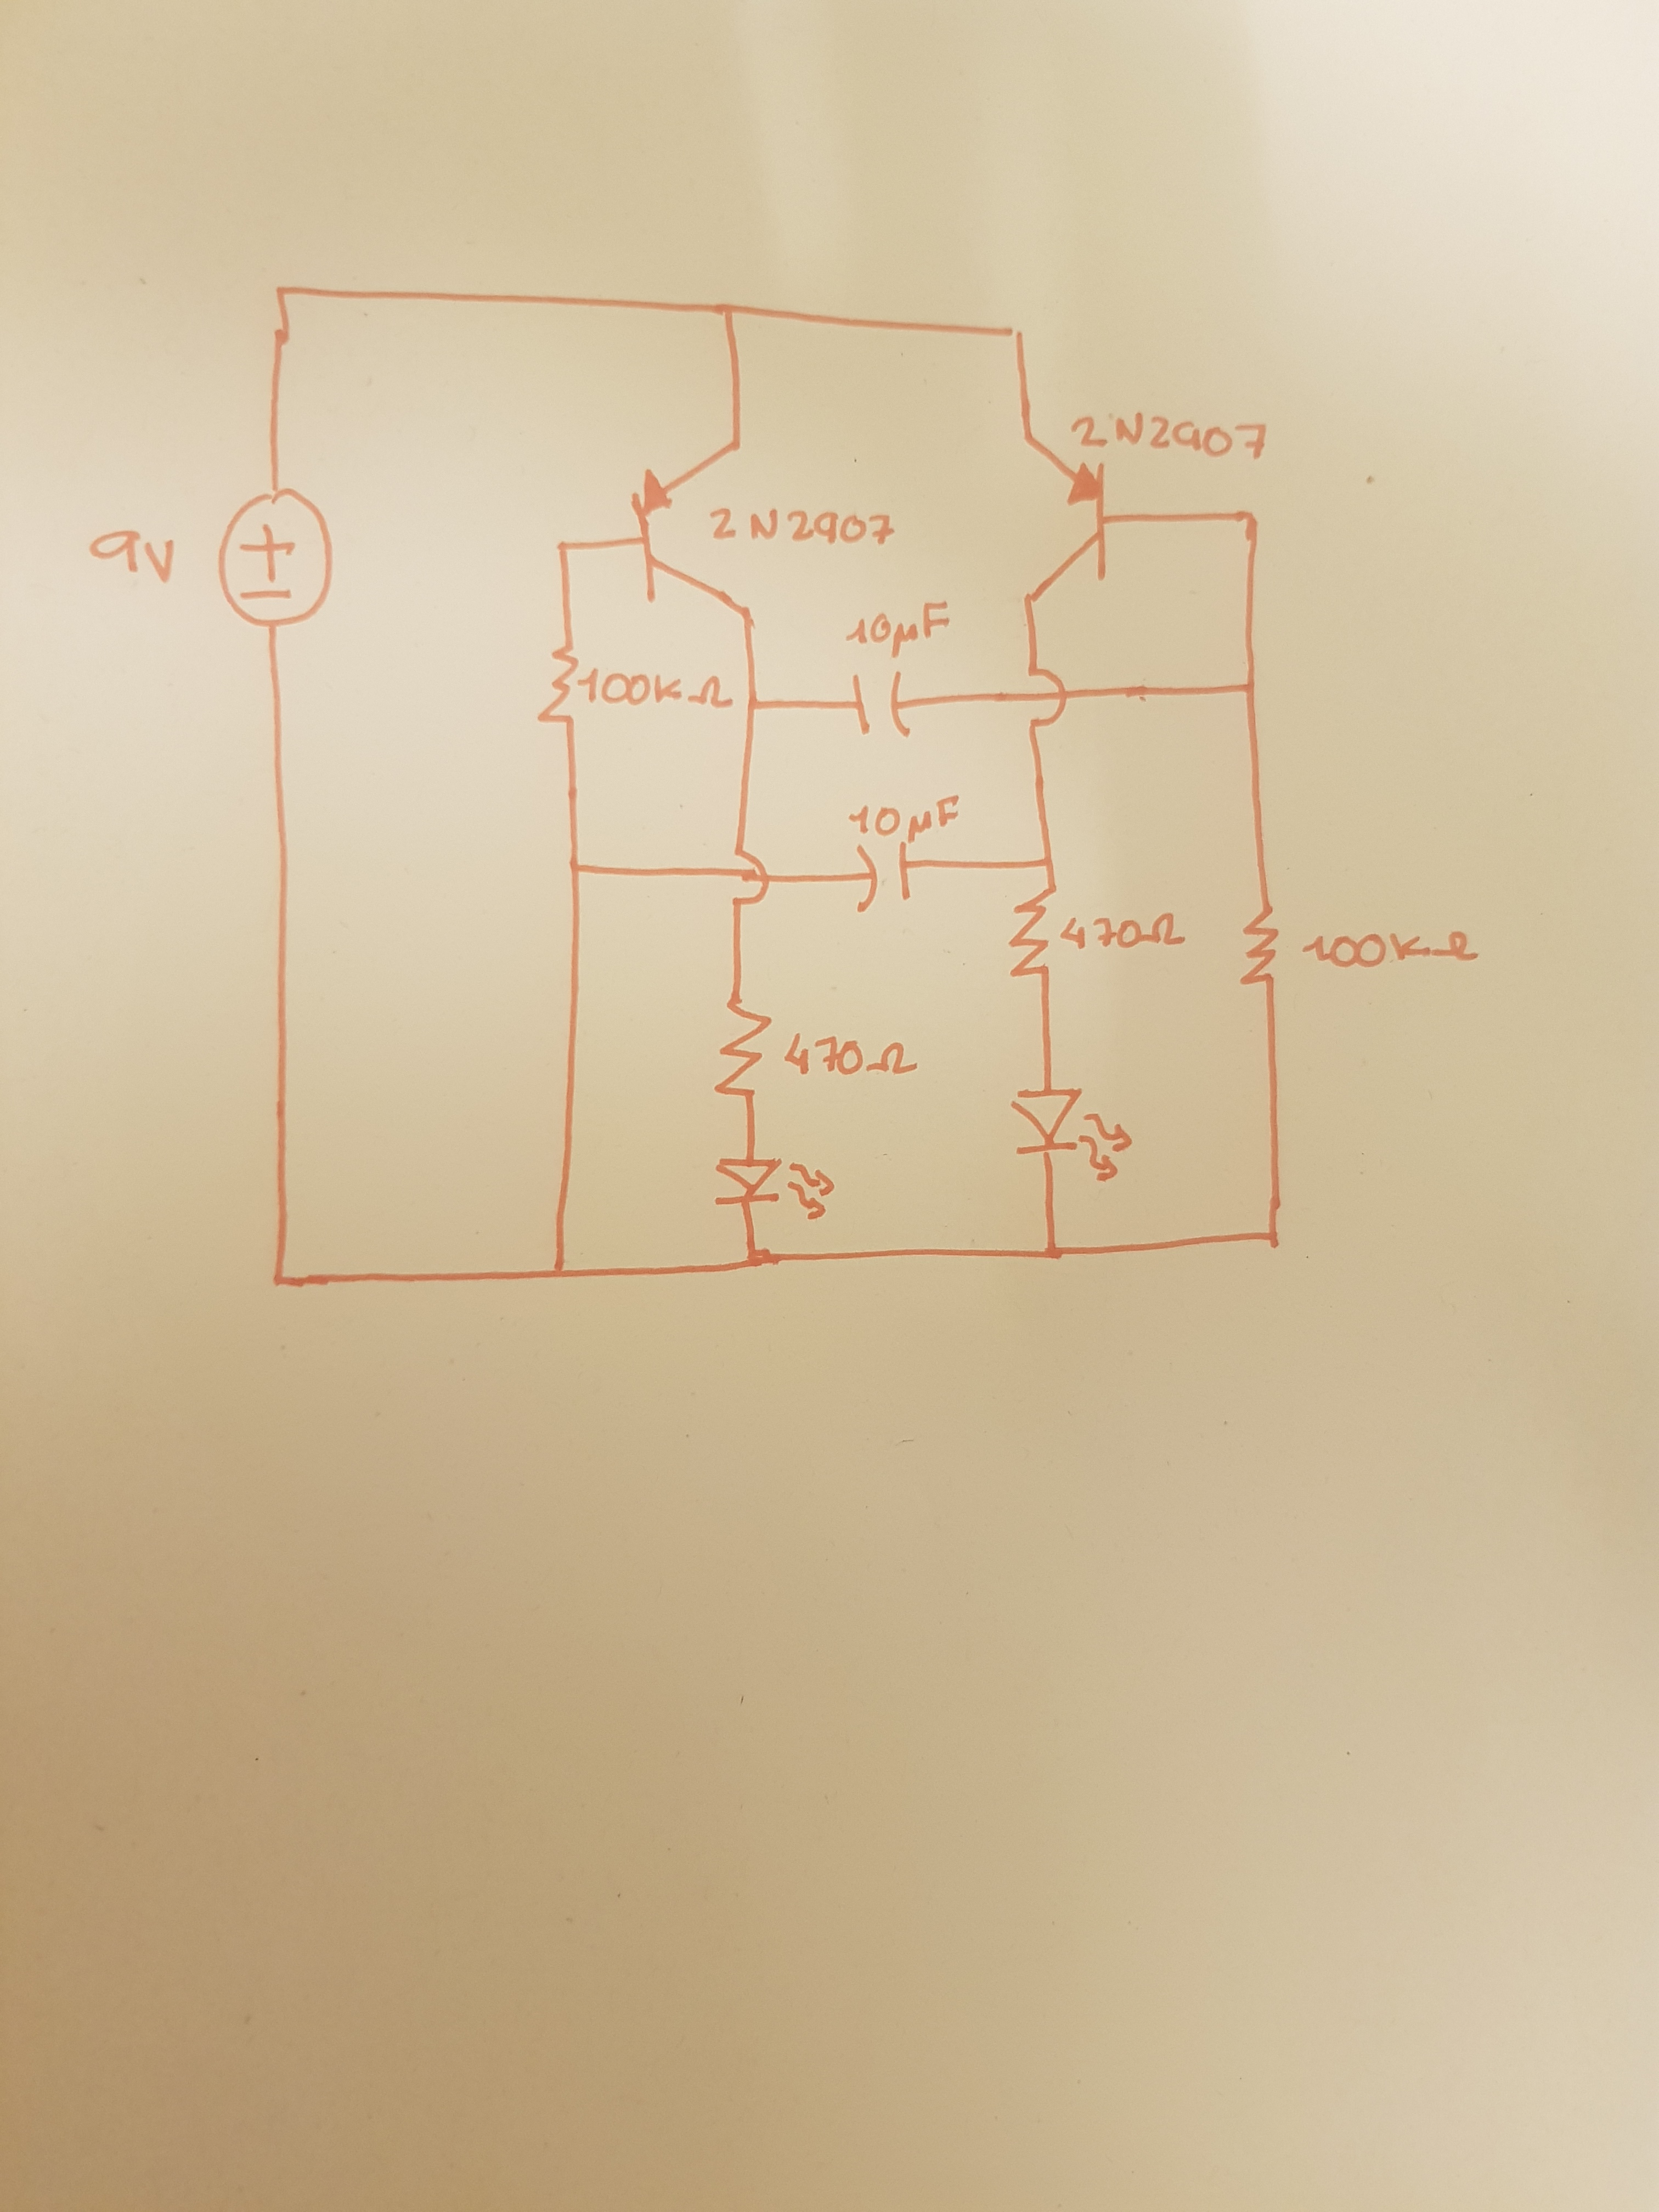capacitor.unpolarized: (843, 664, 917, 744), (849, 836, 917, 914)
crossover: (1021, 665, 1070, 733), (727, 845, 772, 911)
diode.light_emitting: (1004, 1082, 1136, 1183), (708, 1153, 838, 1224)
junction: (1251, 1216, 1293, 1258), (1032, 1235, 1072, 1270), (1239, 503, 1270, 536), (558, 855, 592, 885), (739, 1245, 770, 1277), (714, 294, 746, 326), (1000, 319, 1033, 348), (544, 1258, 572, 1292), (265, 1263, 293, 1296), (270, 280, 301, 308), (1237, 671, 1262, 704), (552, 533, 579, 563), (744, 695, 769, 721), (1037, 853, 1061, 871)
resistor: (709, 991, 777, 1104), (1004, 894, 1060, 982), (532, 637, 580, 732), (1237, 899, 1286, 991)
text: (1072, 406, 1279, 458), (702, 502, 896, 556), (1298, 928, 1483, 970), (782, 1029, 918, 1082), (843, 599, 957, 660), (847, 791, 962, 845), (572, 669, 718, 711), (84, 524, 183, 585), (1058, 909, 1187, 953)
transistor: (627, 437, 762, 624), (1014, 427, 1114, 611)
voltage.dc: (214, 486, 342, 629)
